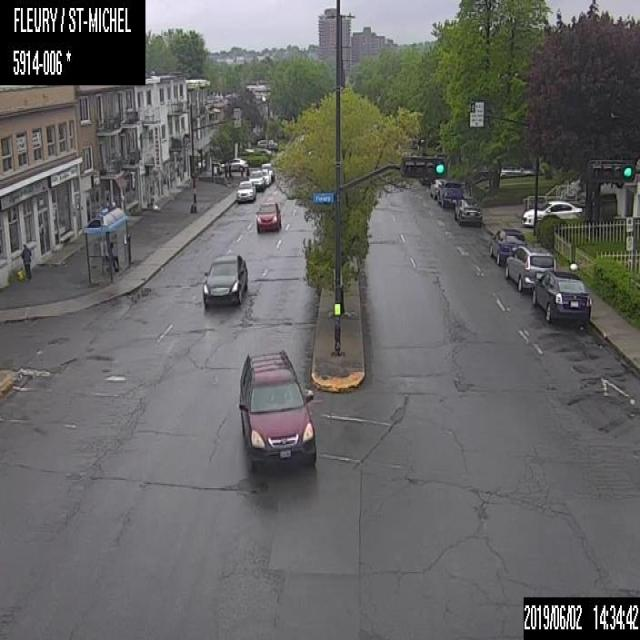pedestrian: (106, 238, 121, 272), (19, 242, 32, 278)
vehicle: (238, 348, 316, 469), (532, 266, 591, 325), (503, 242, 556, 294), (201, 252, 247, 307), (518, 196, 583, 228), (486, 225, 526, 265), (254, 200, 281, 233), (453, 195, 482, 225), (436, 179, 462, 208), (220, 155, 248, 171), (248, 166, 264, 191), (235, 179, 253, 201), (260, 166, 270, 186)
